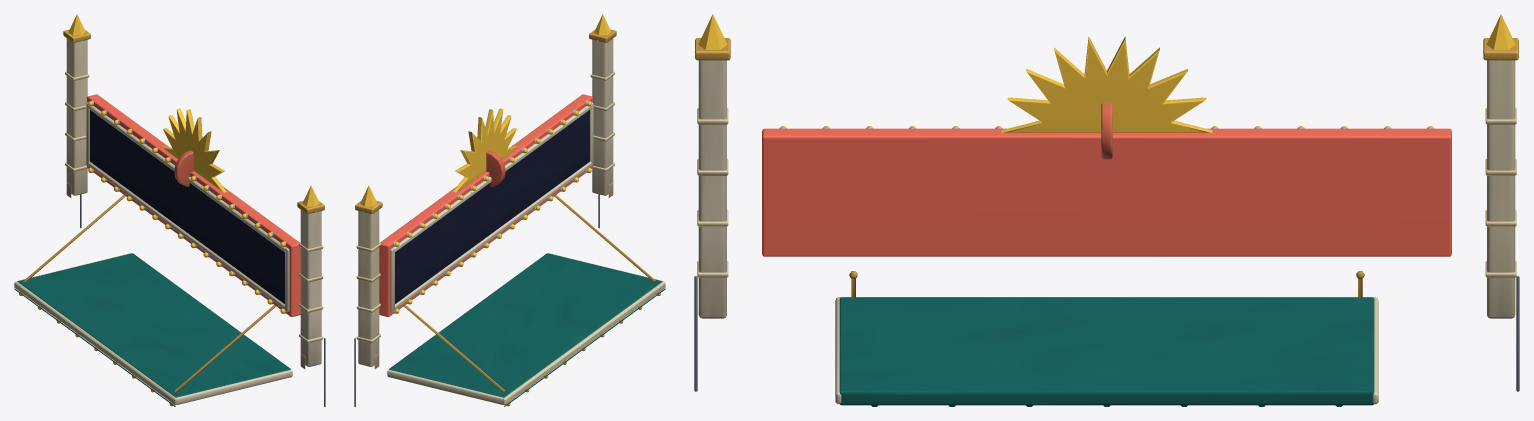
Rendered from SM_Studio_Marquee.fbx.
The picture shows the model from 3 angles, left to right: view 1: azimuth 30°, elevation 25°; view 2: azimuth 150°, elevation 25°; view 3: azimuth 270°, elevation 25°; orthographic projection. The views are drawn at different scales.
Parts seen in each view (by area): view 1: SM_Studio_Marquee; view 2: SM_Studio_Marquee; view 3: SM_Studio_Marquee.
Part boxes in pixels (box(x1,y1,x2,y2)): SM_Studio_Marquee: box(14, 14, 325, 406); SM_Studio_Marquee: box(354, 14, 665, 406); SM_Studio_Marquee: box(694, 14, 1519, 406).
Bounding box in the file's own units: 327 × 601 × 1173.
